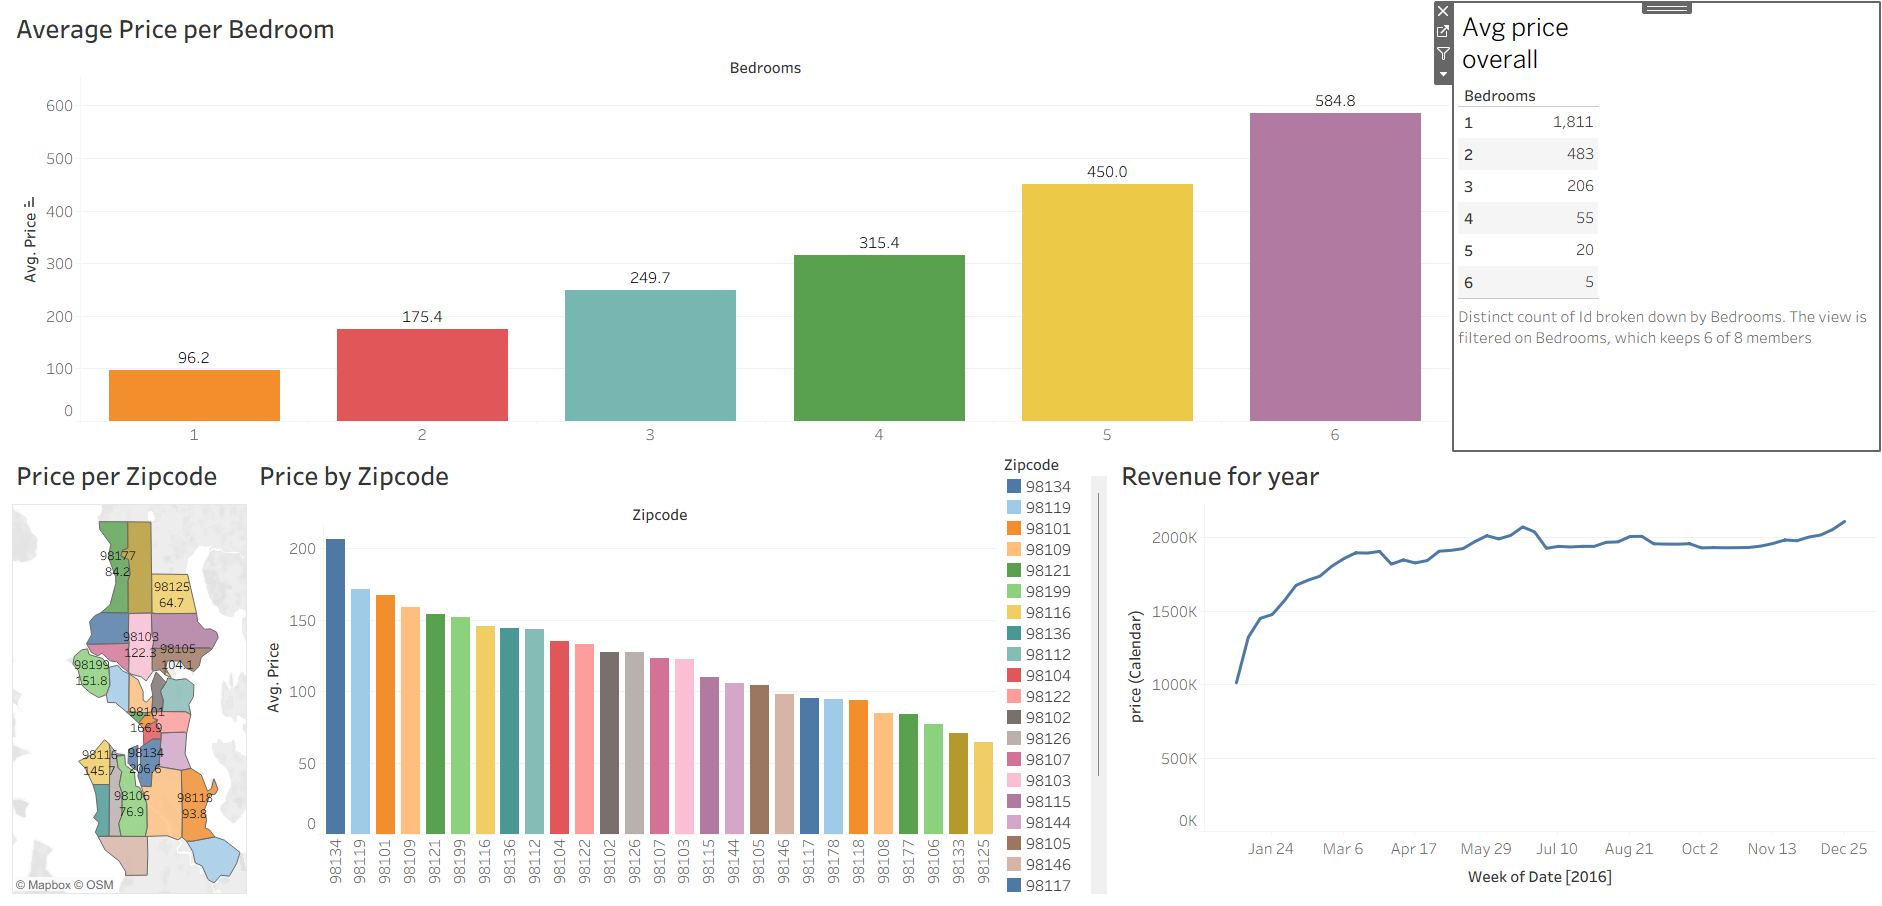

This screenshot's page, from the dashboard's own definition file:
{"tool":"tableau","page":{"name":"Dashboard 1","canvas":[1000,1000],"units":"permille","ordinal":0},"visuals":[{"type":"worksheet","title":"Sheet 4","mark":"Automatic","rows":["price"],"cols":["bedrooms"],"box":[4.8,8.8,765.2,490.7]},{"type":"worksheet","title":"Sheet 5","mark":"Automatic","rows":["bedrooms"],"box":[770.1,8.8,225.1,490.7]},{"type":"worksheet","title":"Sheet 2","mark":"Multipolygon","box":[4.8,499.4,128.5,491.8]},{"type":"worksheet","title":"Sheet 1","mark":"Automatic","rows":["price"],"cols":["zipcode"],"box":[133.3,499.4,396.5,491.8]},{"type":"legend","title":"Sheet 1","param":"[federated.1fu8ztv1lj9jsk1gdpn4610y5h61].[none:zipcode:ok]","box":[529.9,499.4,68.2,491.8]},{"type":"worksheet","title":"Sheet 3","mark":"Automatic","rows":["price (Calendar)"],"cols":["date"],"box":[598.1,499.4,397.1,491.8]}]}

Visuals, with their boxes on the dashboard's canvas, which has no fixed pixel size, in thousandths of its width and height (x1, y1, x2, y2). These are canvas units, not pixel positions in the 1882x906 screenshot, which may show the page scaled, cropped or inside an application window:
"Sheet 4" worksheet: <region>5, 9, 770, 500</region>
"Sheet 5" worksheet: <region>770, 9, 995, 500</region>
"Sheet 2" worksheet (Multipolygon marks): <region>5, 499, 133, 991</region>
"Sheet 1" worksheet: <region>133, 499, 530, 991</region>
"Sheet 1" legend: <region>530, 499, 598, 991</region>
"Sheet 3" worksheet: <region>598, 499, 995, 991</region>
